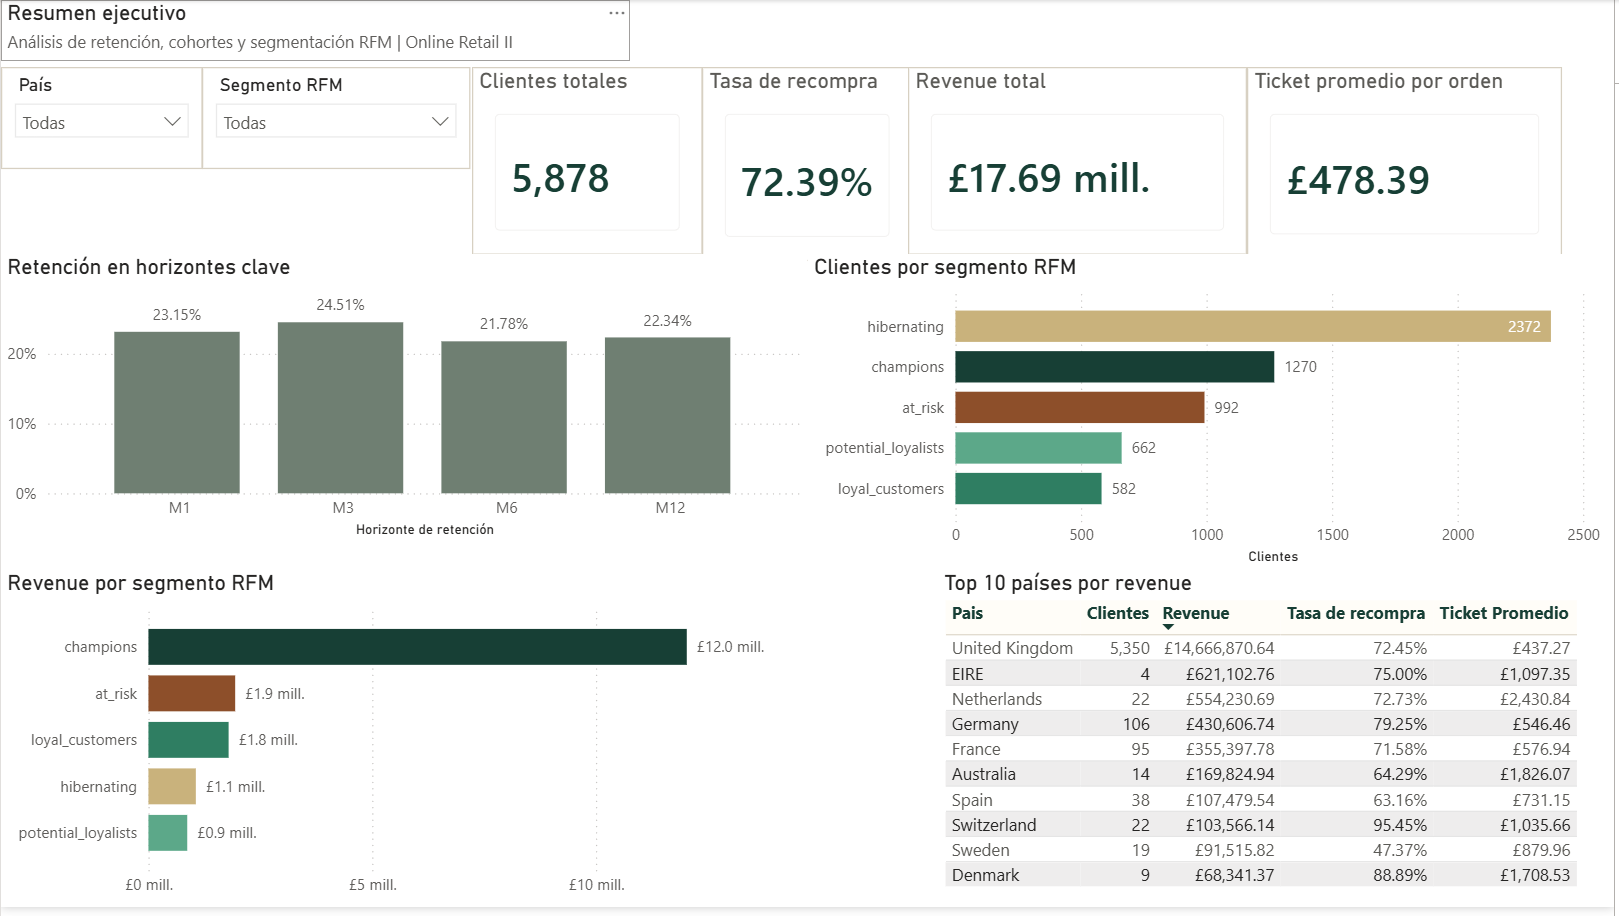

What the dashboard file says about the page in this screenshot:
{"tool":"powerbi","page":{"name":"Resumen Ejecutivo","canvas":[1280,720],"ordinal":0},"visuals":[{"type":"textbox","title":"Resumen ejecutivo","box":[0,0,499.3,48.4],"z":0},{"type":"slicer","fields":{"Values":["Dim Pais.Pais"]},"box":[0,53.3,159.8,81.3],"z":1},{"type":"slicer","fields":{"Values":["rfm.rfm_segment"]},"box":[168,53.2,213,72.6],"z":3},{"type":"cardVisual","title":"Clientes totales","fields":{"Data":["Dim Pais.Clientes Totales Card"]},"box":[373.4,53.2,183.3,148.7],"z":4},{"type":"cardVisual","title":"Tasa de recompra","fields":{"Data":["Medidas.Repeat Rate"]},"box":[556.7,53.2,167.3,153.5],"z":5},{"type":"cardVisual","title":"Revenue total","fields":{"Data":["Medidas.Revenue Total GBP"]},"box":[719.9,53.2,269,148.7],"z":6},{"type":"cardVisual","title":"Ticket promedio por orden","fields":{"Data":["Medidas.Ticket Promedio GBP"]},"box":[988.9,53.2,250.3,151.4],"z":7},{"type":"columnChart","title":"Retención en horizontes clave","fields":{"Category":["Metricas Retencion.Mes Retencion"],"Y":["Medidas.Retencion Seleccionada"]},"box":[0,201.8,640,228.9],"z":8},{"type":"clusteredBarChart","title":"Clientes por segmento RFM","fields":{"Category":["rfm.rfm_segment"],"Y":["Medidas.Clientes RFM"]},"box":[640.3,201.9,639.7,250.3],"z":9},{"type":"clusteredBarChart","title":"Revenue por segmento RFM","fields":{"Category":["rfm.rfm_segment"],"Y":["Medidas.Revenue RFM GBP"]},"box":[0,452.3,640.3,267.6],"z":10},{"type":"tableEx","title":"Top 10 países por revenue","fields":{"Values":["Dim Pais.Pais","Medidas.Clientes Totales","Medidas.Revenue Total GBP","Medidas.Repeat Rate","Medidas.Ticket Promedio GBP"]},"box":[743.4,452.3,536.6,267.6],"z":11}]}

Visuals, with their boxes in screenshot pixels (x1, y1, x2, y2), scaled from the page's 1280x720 canvas onto the 1619x916 screenshot:
"Resumen ejecutivo" textbox: <box>0,0,632,62</box>
slicer - Dim Pais.Pais: <box>0,68,202,171</box>
slicer - rfm.rfm_segment: <box>212,68,482,160</box>
"Clientes totales" cardVisual: <box>472,68,704,257</box>
"Tasa de recompra" cardVisual: <box>704,68,916,263</box>
"Revenue total" cardVisual: <box>911,68,1251,257</box>
"Ticket promedio por orden" cardVisual: <box>1251,68,1567,260</box>
"Retención en horizontes clave" columnChart: <box>0,257,810,548</box>
"Clientes por segmento RFM" clusteredBarChart: <box>810,257,1618,575</box>
"Revenue por segmento RFM" clusteredBarChart: <box>0,575,810,915</box>
"Top 10 países por revenue" tableEx: <box>940,575,1618,915</box>
